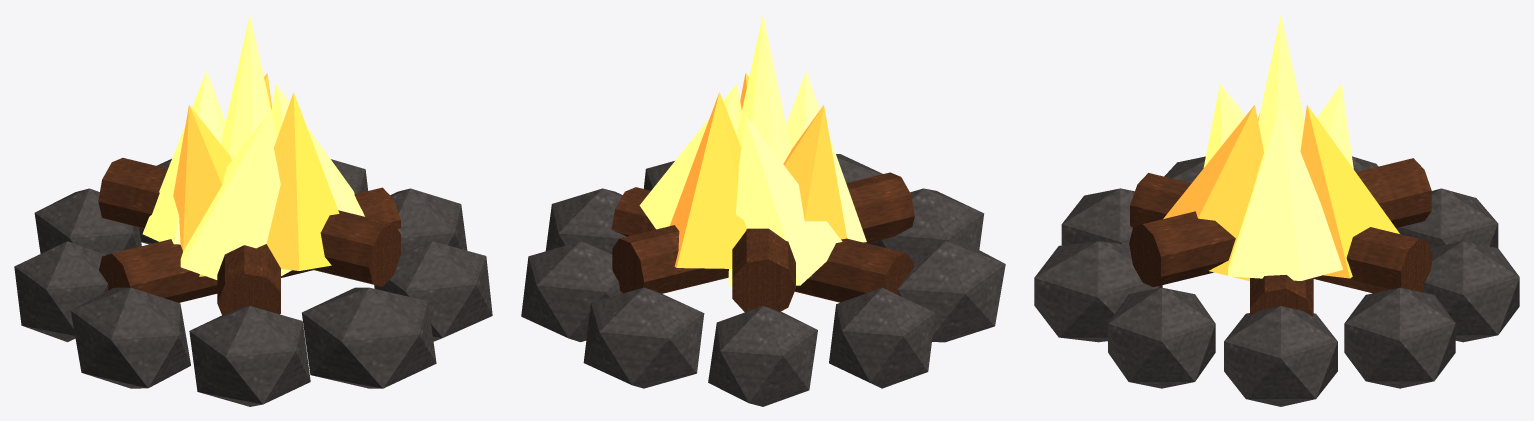
The model's file is fogueira.glb.
The picture shows the model from 3 angles, left to right: view 1: azimuth 30°, elevation 25°; view 2: azimuth 150°, elevation 25°; view 3: azimuth 270°, elevation 25°; orthographic projection.
Parts seen in each view (by area): view 1: Pedra do anel.009, Lenha.003, Língua de fogo.006, Língua de fogo.007; view 2: Pedra do anel.009, Lenha.003, Língua de fogo.006, Língua de fogo.007; view 3: Pedra do anel.009, Lenha.003, Língua de fogo.006, Língua de fogo.007.
Part boxes in pixels (left/top/right/bottom): Pedra do anel.009: left=14, top=159, right=492, bottom=406; Lenha.003: left=98, top=158, right=400, bottom=315; Língua de fogo.006: left=142, top=14, right=364, bottom=279; Língua de fogo.007: left=173, top=73, right=339, bottom=276; Pedra do anel.009: left=521, top=154, right=1005, bottom=406; Lenha.003: left=611, top=172, right=914, bottom=312; Língua de fogo.006: left=639, top=14, right=866, bottom=285; Língua de fogo.007: left=670, top=73, right=847, bottom=276; Pedra do anel.009: left=1034, top=156, right=1519, bottom=406; Lenha.003: left=1129, top=158, right=1432, bottom=316; Língua de fogo.006: left=1203, top=15, right=1353, bottom=280; Língua de fogo.007: left=1163, top=105, right=1399, bottom=281.
Bounding box in the file's own units: 1.23 × 0.8995 × 1.26.
Materials: 4 (2 with a texture image).
